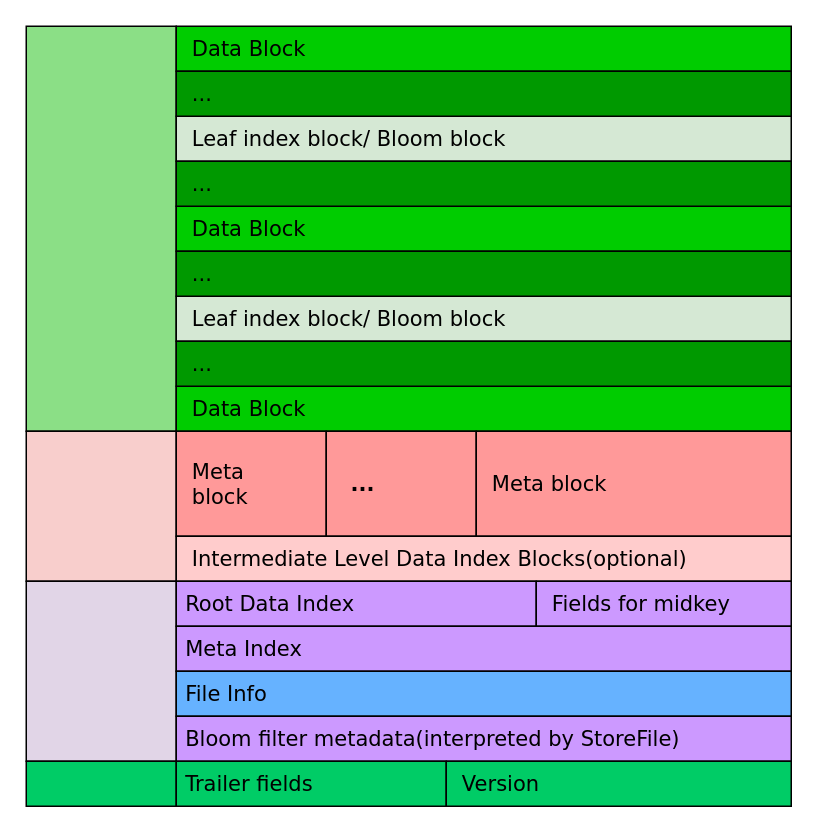
Image size: 818x833. Some labels were removed from this diagram. The shapes that lost their labels are listed below. From the top down, each one's centre as x and y in pixels, then its label:
point (100, 228): "Scanned block" section
point (100, 505): "Non- scanned block" section
point (100, 670): "Load-on- open" section
point (100, 783): Trailer
